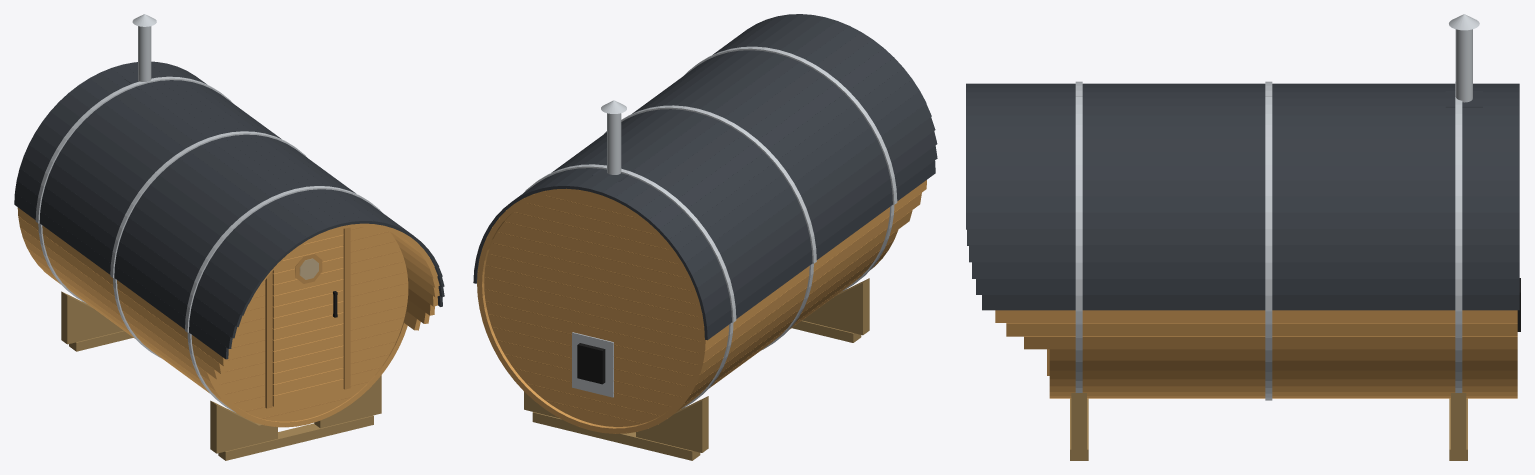
File: баня_бочка_2_3_м_с_козырьком_0_5_м_печь_каменка_бак_лавки.glb
The picture shows the model from 3 angles, left to right: view 1: azimuth 30°, elevation 25°; view 2: azimuth 150°, elevation 25°; view 3: azimuth 270°, elevation 25°; orthographic projection. The views are drawn at different scales.
Parts seen in each view (by area): view 1: roof, walls, barrel; view 2: roof, walls, barrel; view 3: roof, walls, barrel.
Boxes of the visible parts, x1,y1,x2,y2 form: roof: (14,61,444,359); walls: (17,207,434,427); barrel: (38,14,381,460); roof: (473,14,937,340); walls: (477,180,926,433); barrel: (524,100,894,460); roof: (966,81,1519,311); walls: (995,310,1517,398); barrel: (1047,14,1520,460).
Size of the model in its own units: 2.07 by 2.84 by 3.57.
